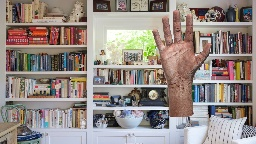Mano_aperta: (150, 8, 212, 82)
